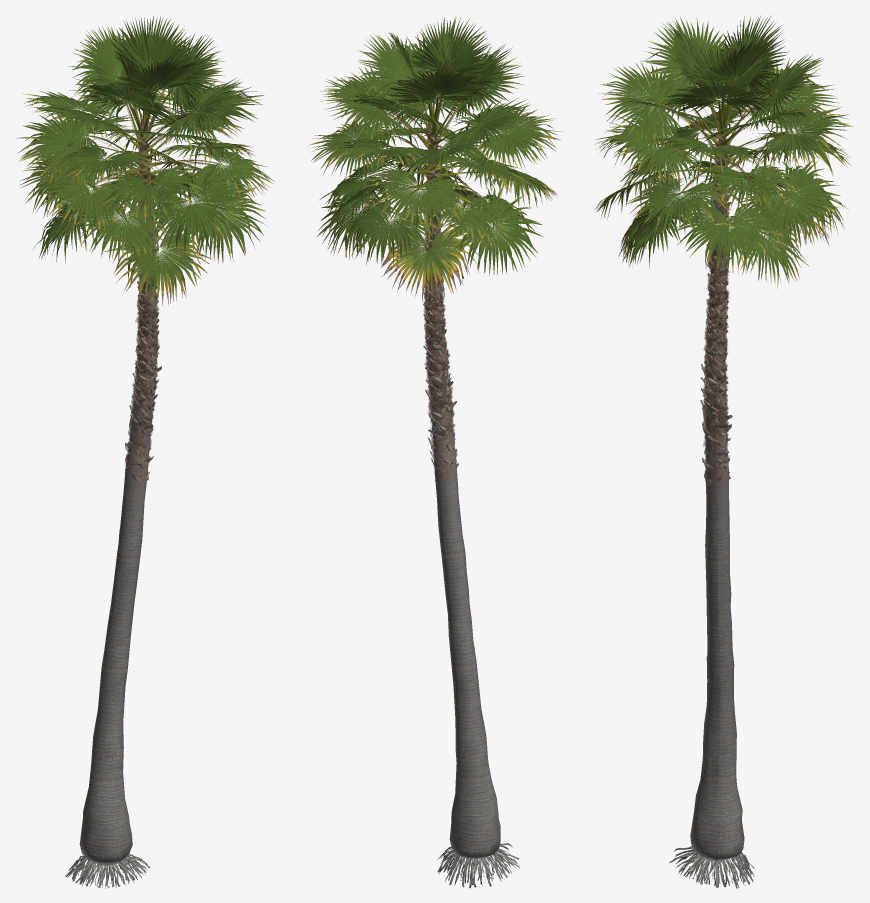
The model's file is doum_palm.glb.
The picture shows the model from 3 angles, left to right: view 1: azimuth 30°, elevation 25°; view 2: azimuth 150°, elevation 25°; view 3: azimuth 270°, elevation 25°; orthographic projection. The views are drawn at different scales.
Parts seen in each view (by area): view 1: Washingtonia_robusta_HD_V2_Wash leaf 03_0, Washingtonia_robusta_HD_V2_Wash leaf 01_0, Washingtonia_robusta_HD_V2_Wash leaf 02_0, Washingtonia_robusta_HD_V2_Wash trunk_0, Washingtonia_robusta_HD_V2_Wahs crownshaft_0, Washingtonia_robusta_HD_V2_Wash leaf stalk 01_0, Washingtonia_robusta_HD_V2_Wash cut stalk 03_0, Washingtonia_robusta_HD_V2_Wash fur 1a_0, Washingtonia_robusta_HD_V2_Wash rob spines_0, Washingtonia_robusta_HD_V2_Wash fur 2a_0; view 2: Washingtonia_robusta_HD_V2_Wash leaf 02_0, Washingtonia_robusta_HD_V2_Wash leaf 01_0, Washingtonia_robusta_HD_V2_Wash leaf 03_0, Washingtonia_robusta_HD_V2_Wash trunk_0, Washingtonia_robusta_HD_V2_Wahs crownshaft_0, Washingtonia_robusta_HD_V2_Wash leaf stalk 01_0, Washingtonia_robusta_HD_V2_Wash cut stalk 03_0, Washingtonia_robusta_HD_V2_Wash fur 1a_0, Washingtonia_robusta_HD_V2_Wash fur 2a_0, Washingtonia_robusta_HD_V2_Wash rob spines_0; view 3: Washingtonia_robusta_HD_V2_Wash leaf 01_0, Washingtonia_robusta_HD_V2_Wash leaf 02_0, Washingtonia_robusta_HD_V2_Wash leaf 03_0, Washingtonia_robusta_HD_V2_Wash trunk_0, Washingtonia_robusta_HD_V2_Wahs crownshaft_0, Washingtonia_robusta_HD_V2_Wash leaf stalk 01_0, Washingtonia_robusta_HD_V2_Wash cut stalk 03_0, Washingtonia_robusta_HD_V2_Wash fur 2a_0, Washingtonia_robusta_HD_V2_Wash fur 1a_0, Washingtonia_robusta_HD_V2_Wash rob spines_0, Washingtonia_robusta_HD_V2_Wash cut stalk 01_0.
Part boxes in pixels (box(x1,y1,x2,y2)): Washingtonia_robusta_HD_V2_Wash leaf 03_0: box(19, 17, 274, 305); Washingtonia_robusta_HD_V2_Wash leaf 01_0: box(16, 16, 272, 303); Washingtonia_robusta_HD_V2_Wash leaf 02_0: box(19, 16, 267, 303); Washingtonia_robusta_HD_V2_Wash trunk_0: box(65, 543, 149, 888); Washingtonia_robusta_HD_V2_Wahs crownshaft_0: box(118, 125, 156, 547); Washingtonia_robusta_HD_V2_Wash leaf stalk 01_0: box(70, 70, 224, 251); Washingtonia_robusta_HD_V2_Wash cut stalk 03_0: box(129, 343, 161, 456); Washingtonia_robusta_HD_V2_Wash fur 1a_0: box(132, 120, 158, 414); Washingtonia_robusta_HD_V2_Wash rob spines_0: box(80, 81, 215, 246); Washingtonia_robusta_HD_V2_Wash fur 2a_0: box(132, 134, 158, 407); Washingtonia_robusta_HD_V2_Wash leaf 02_0: box(312, 17, 561, 301); Washingtonia_robusta_HD_V2_Wash leaf 01_0: box(308, 17, 557, 302); Washingtonia_robusta_HD_V2_Wash leaf 03_0: box(312, 17, 557, 298); Washingtonia_robusta_HD_V2_Wash trunk_0: box(437, 538, 519, 888); Washingtonia_robusta_HD_V2_Wahs crownshaft_0: box(426, 125, 462, 543); Washingtonia_robusta_HD_V2_Wash leaf stalk 01_0: box(361, 74, 508, 247); Washingtonia_robusta_HD_V2_Wash cut stalk 03_0: box(424, 335, 456, 442); Washingtonia_robusta_HD_V2_Wash fur 1a_0: box(424, 125, 452, 411); Washingtonia_robusta_HD_V2_Wash fur 2a_0: box(423, 134, 450, 413); Washingtonia_robusta_HD_V2_Wash rob spines_0: box(376, 95, 498, 241); Washingtonia_robusta_HD_V2_Wash leaf 01_0: box(594, 16, 851, 283); Washingtonia_robusta_HD_V2_Wash leaf 02_0: box(594, 16, 853, 288); Washingtonia_robusta_HD_V2_Wash leaf 03_0: box(595, 17, 849, 282); Washingtonia_robusta_HD_V2_Wash trunk_0: box(669, 544, 754, 888); Washingtonia_robusta_HD_V2_Wahs crownshaft_0: box(705, 127, 729, 550); Washingtonia_robusta_HD_V2_Wash leaf stalk 01_0: box(642, 71, 794, 234); Washingtonia_robusta_HD_V2_Wash cut stalk 03_0: box(700, 348, 732, 452); Washingtonia_robusta_HD_V2_Wash fur 2a_0: box(702, 138, 729, 427); Washingtonia_robusta_HD_V2_Wash fur 1a_0: box(704, 117, 730, 420); Washingtonia_robusta_HD_V2_Wash rob spines_0: box(656, 81, 791, 213); Washingtonia_robusta_HD_V2_Wash cut stalk 01_0: box(706, 262, 728, 331).
Size of the model in its own units: 2.99 by 10.96 by 2.99.
Materials: 23 (23 with a texture image).
